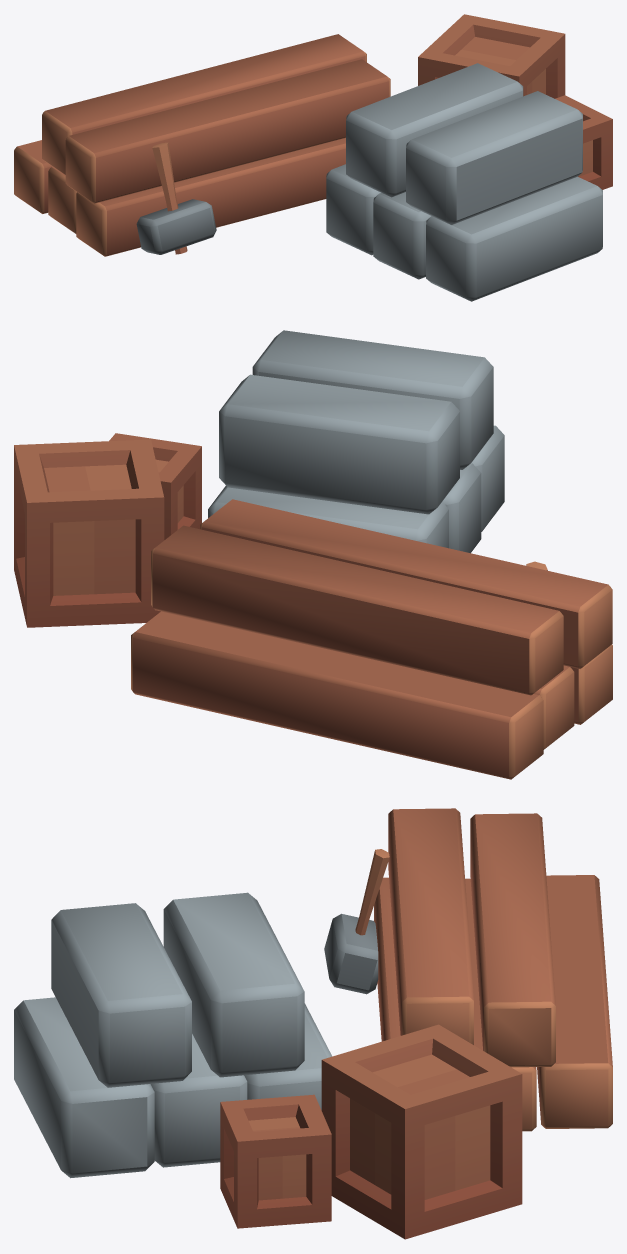
The model's file is construction-foundation.glb.
3 views of the same model, one above another, from view 1: azimuth 30°, elevation 25°; view 2: azimuth 150°, elevation 25°; view 3: azimuth 270°, elevation 25° (orthographic). The views are drawn at different scales.
Parts seen in each view (by area): view 1: building_stage_A; view 2: building_stage_A; view 3: building_stage_A.
Boxes of the visible parts, x1,y1,x2,y2 form: building_stage_A: (14,14,612,301); building_stage_A: (14,330,612,779); building_stage_A: (14,808,612,1239).
Bounding box in the file's own units: 1.05 × 0.2859 × 0.875.
Materials: 1 (1 with a texture image).
